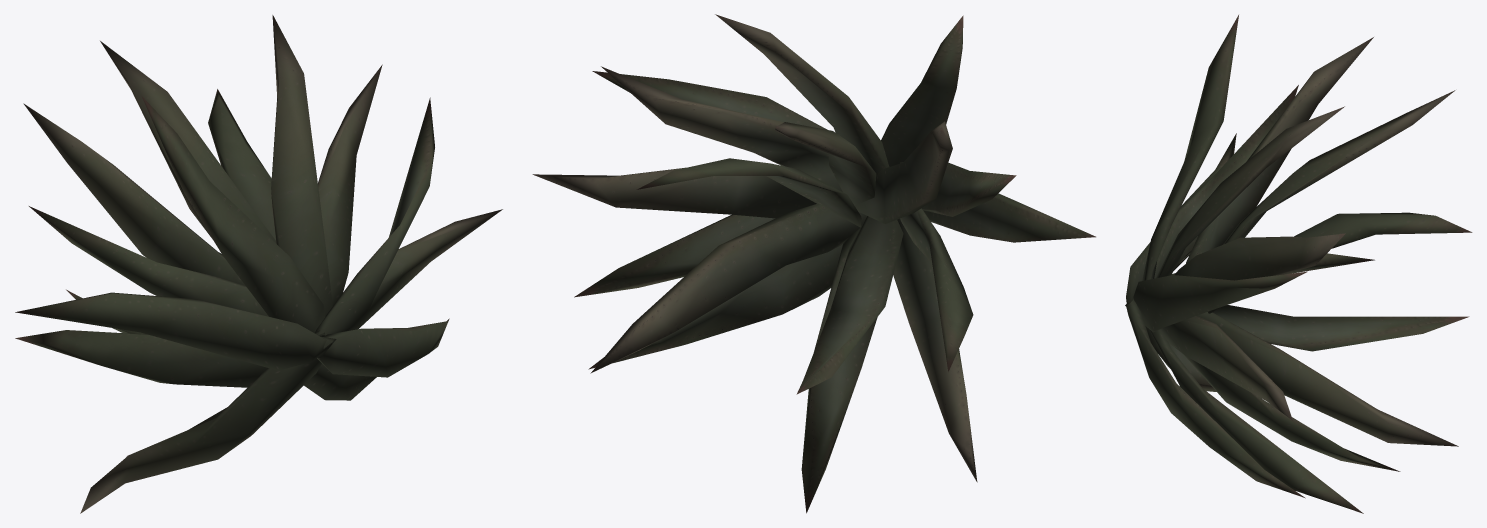
File: DE_Cactus_b_02_LOD_01.fbx
The picture shows the model from 3 angles, left to right: view 1: azimuth 30°, elevation 25°; view 2: azimuth 150°, elevation 25°; view 3: azimuth 270°, elevation 25°; orthographic projection. The views are drawn at different scales.
Visible parts, largest first — view 1: DE_Cactus_b_02_LOD_01; view 2: DE_Cactus_b_02_LOD_01; view 3: DE_Cactus_b_02_LOD_01.
Boxes of the visible parts, <box> form: DE_Cactus_b_02_LOD_01: <box>15,15,502,513</box>; DE_Cactus_b_02_LOD_01: <box>532,14,1095,513</box>; DE_Cactus_b_02_LOD_01: <box>1125,15,1472,513</box>.
Bounding box in the file's own units: 3.42 × 2.77 × 2.05.
